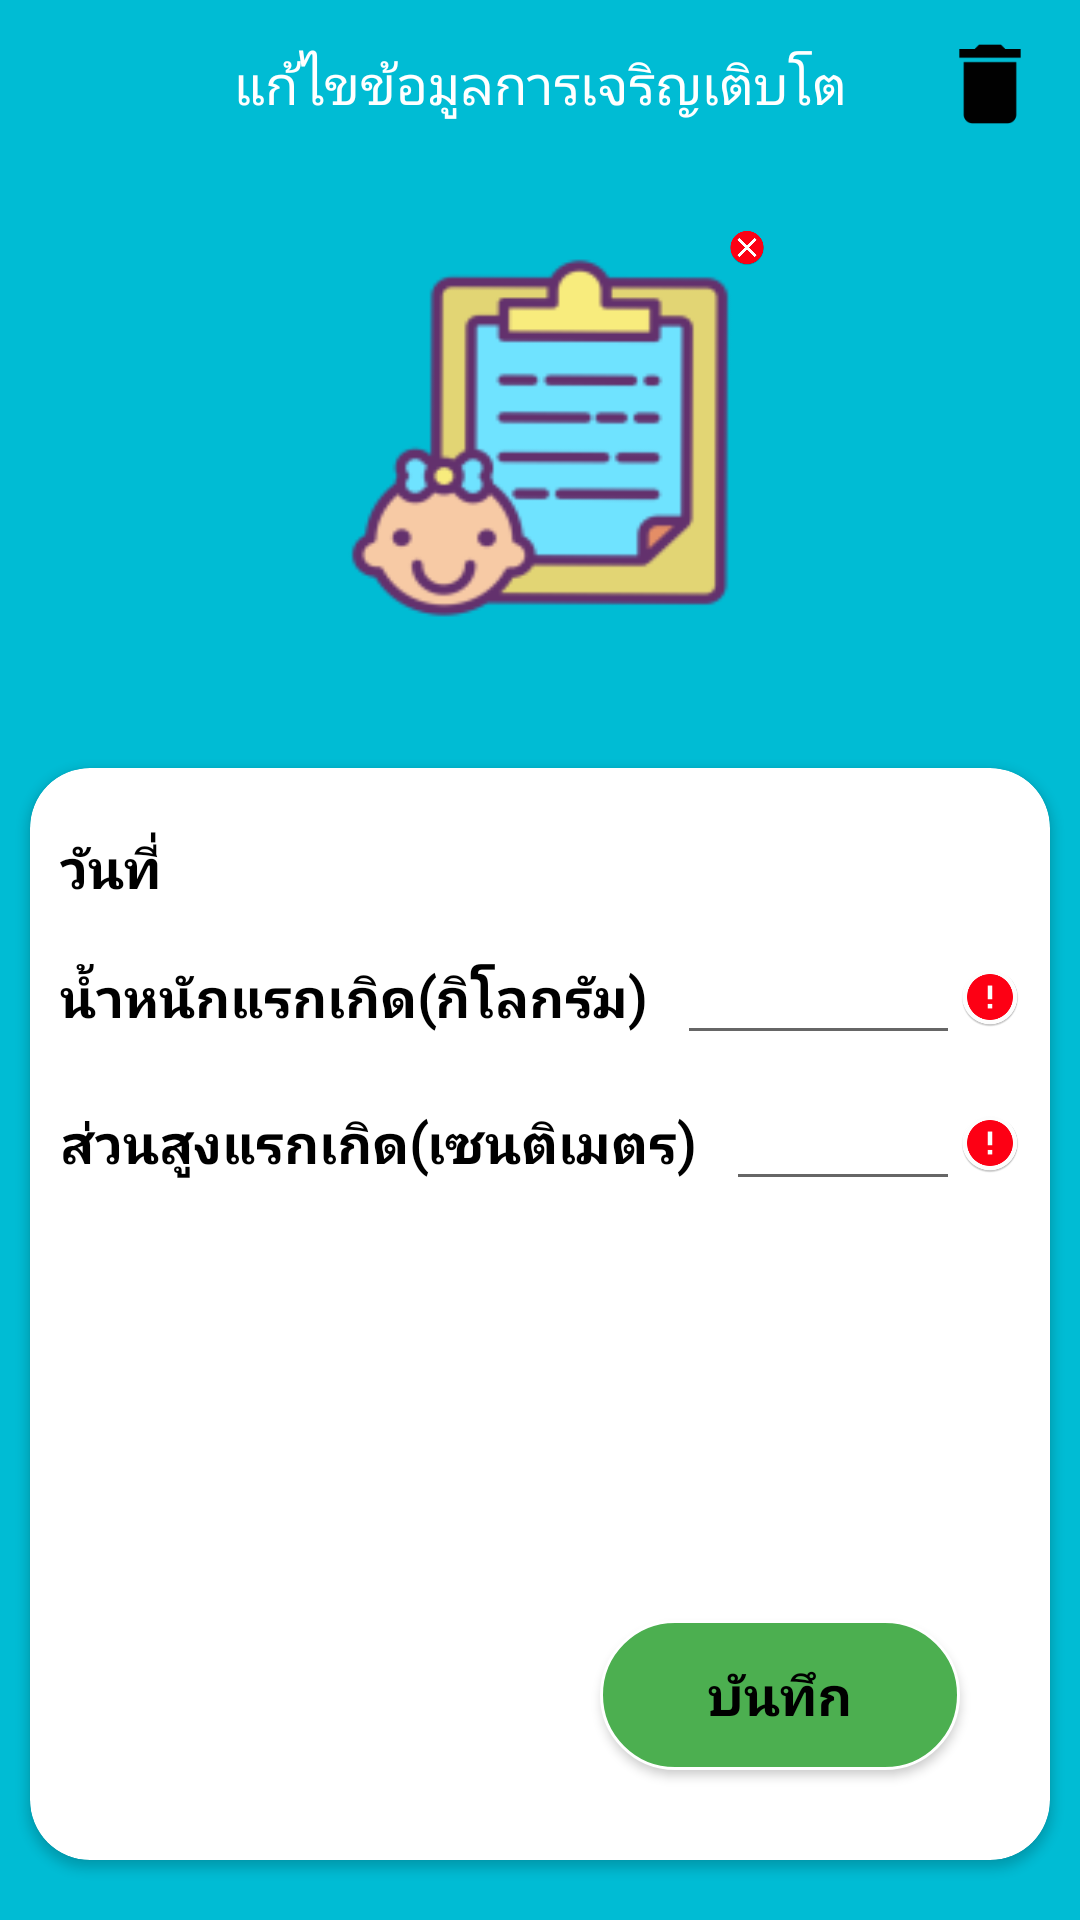

Named icons in this screenshot (1080px×1920px) and their bounding boxes, [x1=x1, y1=y1, x2=x2, y2=y2]:
alert: [x1=963, y1=974, x2=1018, y2=1026], [x1=963, y1=1120, x2=1018, y2=1172]
delete: [x1=959, y1=44, x2=1021, y2=124]
